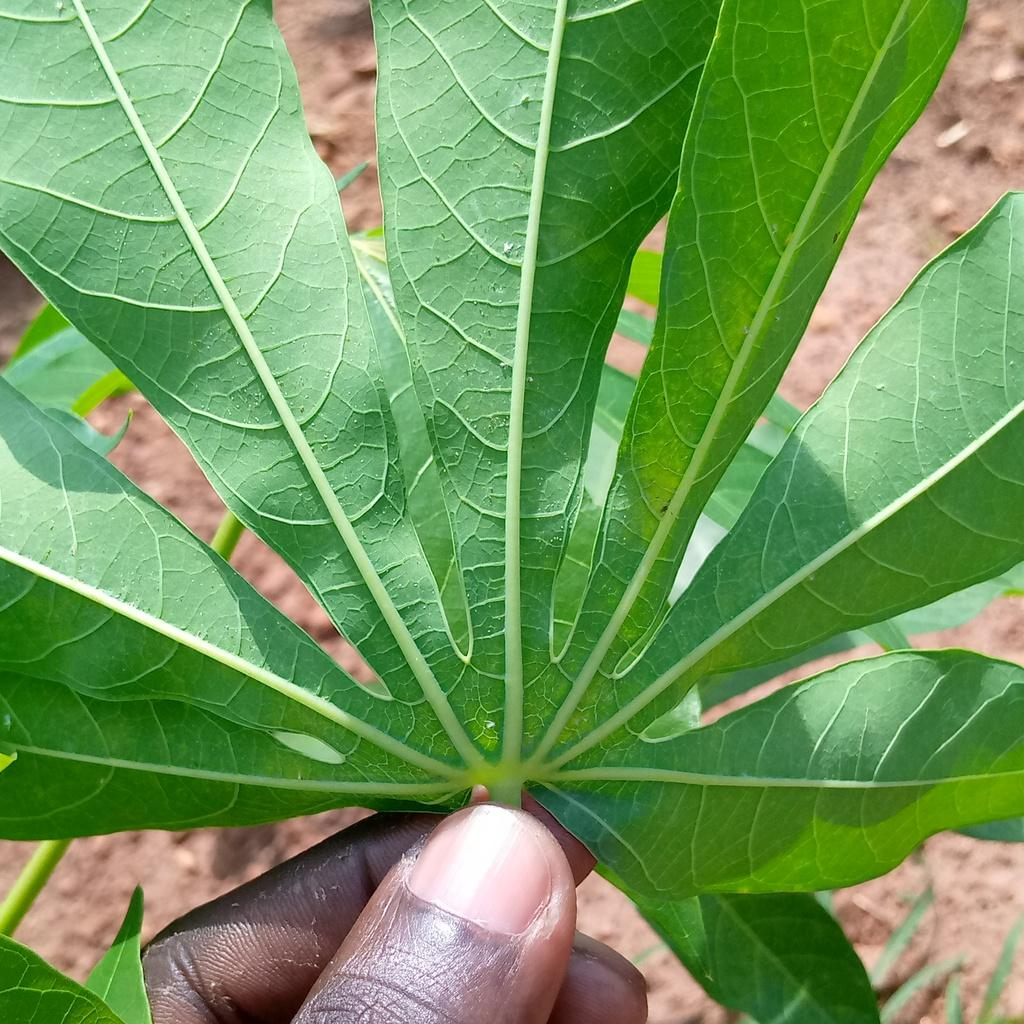adult: (503, 242, 513, 252), (486, 721, 496, 728), (55, 1, 63, 9), (876, 384, 885, 390), (527, 376, 534, 382), (500, 363, 506, 367)
